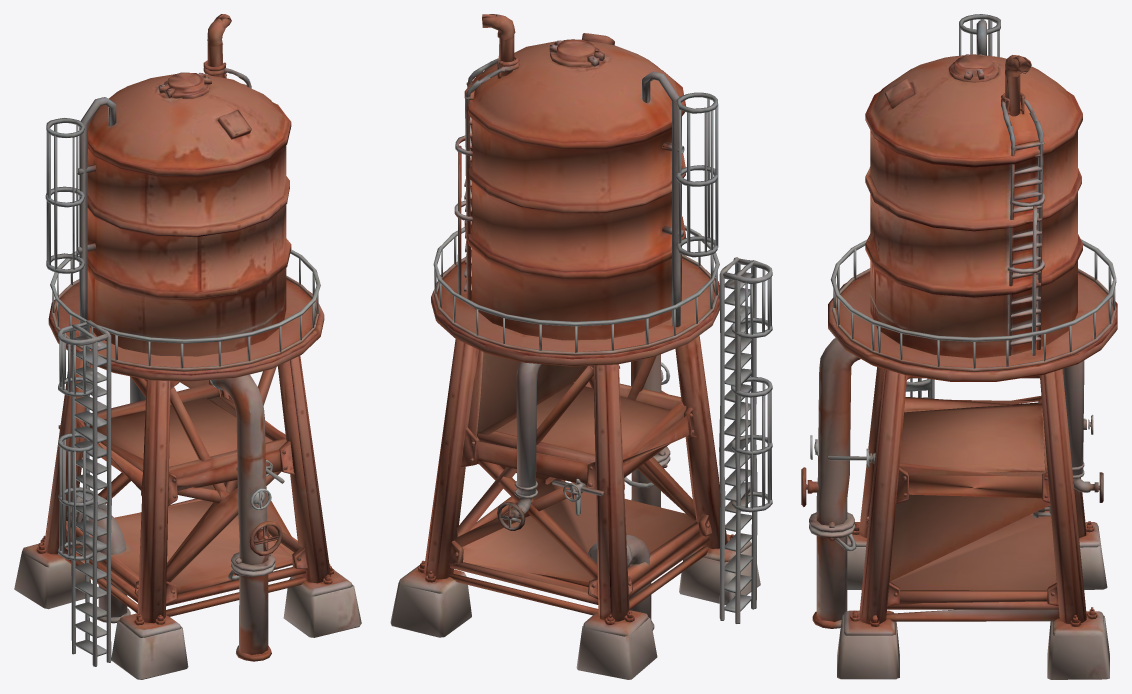
The model's file is water_tower.glb.
The picture shows the model from 3 angles, left to right: view 1: azimuth 30°, elevation 25°; view 2: azimuth 150°, elevation 25°; view 3: azimuth 270°, elevation 25°; orthographic projection. The views are drawn at different scales.
Parts seen in each view (by area): view 1: tripo_node_c342ae57-737d-4556-8c7a-59d753adcadf; view 2: tripo_node_c342ae57-737d-4556-8c7a-59d753adcadf; view 3: tripo_node_c342ae57-737d-4556-8c7a-59d753adcadf.
Part boxes in pixels (x1,y1,x2,y2): tripo_node_c342ae57-737d-4556-8c7a-59d753adcadf: (14,14,361,679); tripo_node_c342ae57-737d-4556-8c7a-59d753adcadf: (390,14,772,679); tripo_node_c342ae57-737d-4556-8c7a-59d753adcadf: (801,14,1117,679).
Size of the model in its own units: 0.5098 by 0.998 by 0.4824.
1 material, 1 textured.
